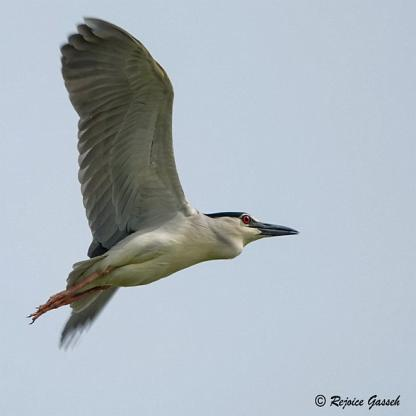Burung: (26, 15, 301, 348)
